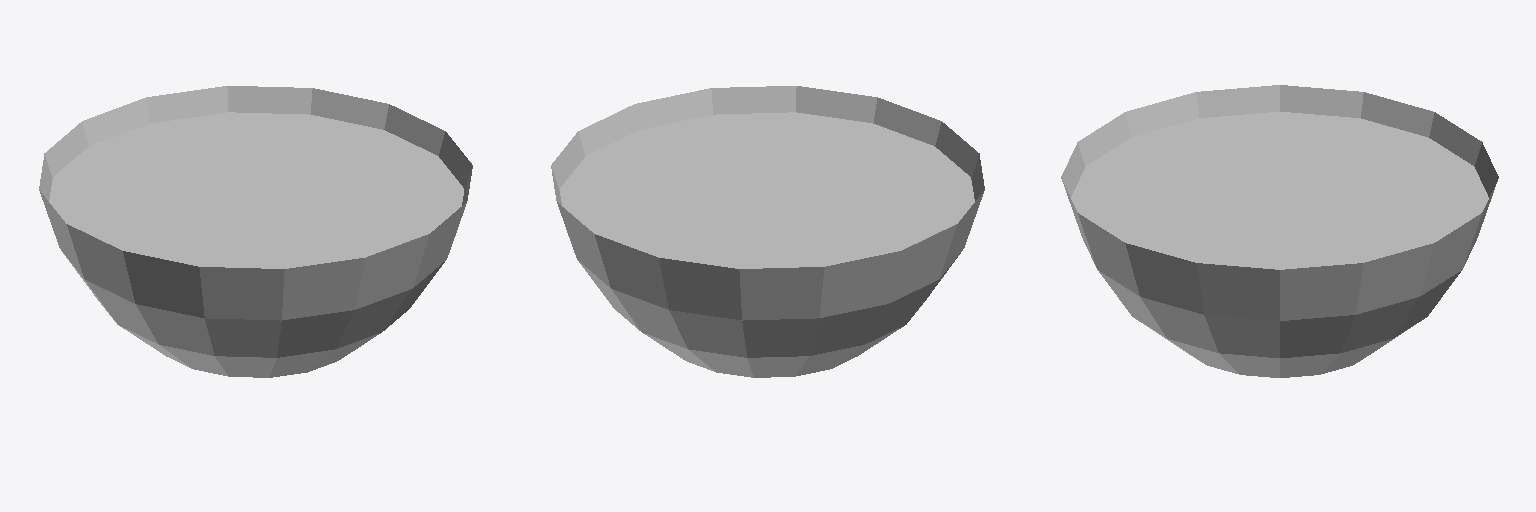
The model's file is soup.obj.
3 views of the same model, side by side, from view 1: azimuth 30°, elevation 25°; view 2: azimuth 150°, elevation 25°; view 3: azimuth 270°, elevation 25° (orthographic).
Parts seen in each view (by area): view 1: Circle.001, Circle; view 2: Circle.001, Circle; view 3: Circle.001, Circle.
Boxes of the visible parts, <box> form: Circle.001: <box>49,112,463,268</box>; Circle: <box>39,86,472,377</box>; Circle.001: <box>560,112,974,268</box>; Circle: <box>551,86,984,377</box>; Circle.001: <box>1071,112,1488,269</box>; Circle: <box>1061,85,1498,377</box>.
Size of the model in its own units: 4.23 by 1.68 by 4.23.